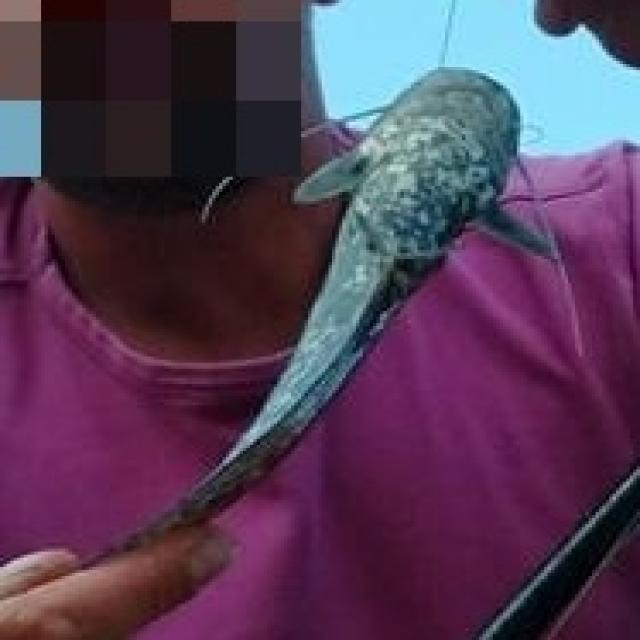Catfish: (315, 49, 536, 556)
